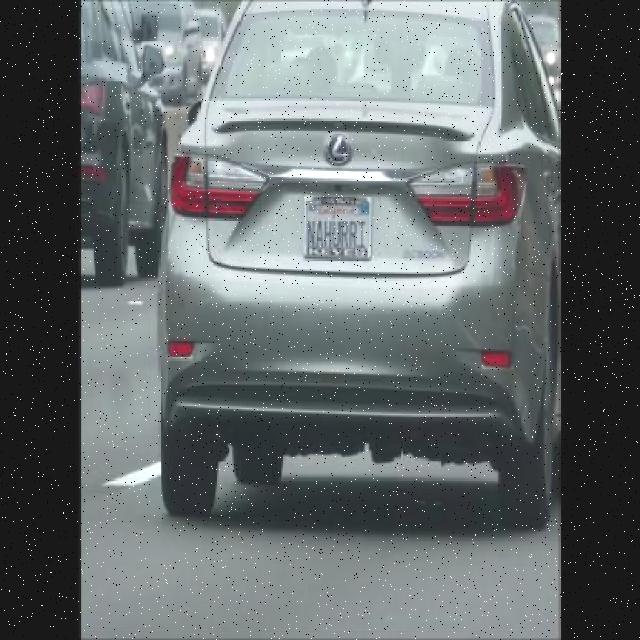licenseplate: (308, 194, 370, 257)
